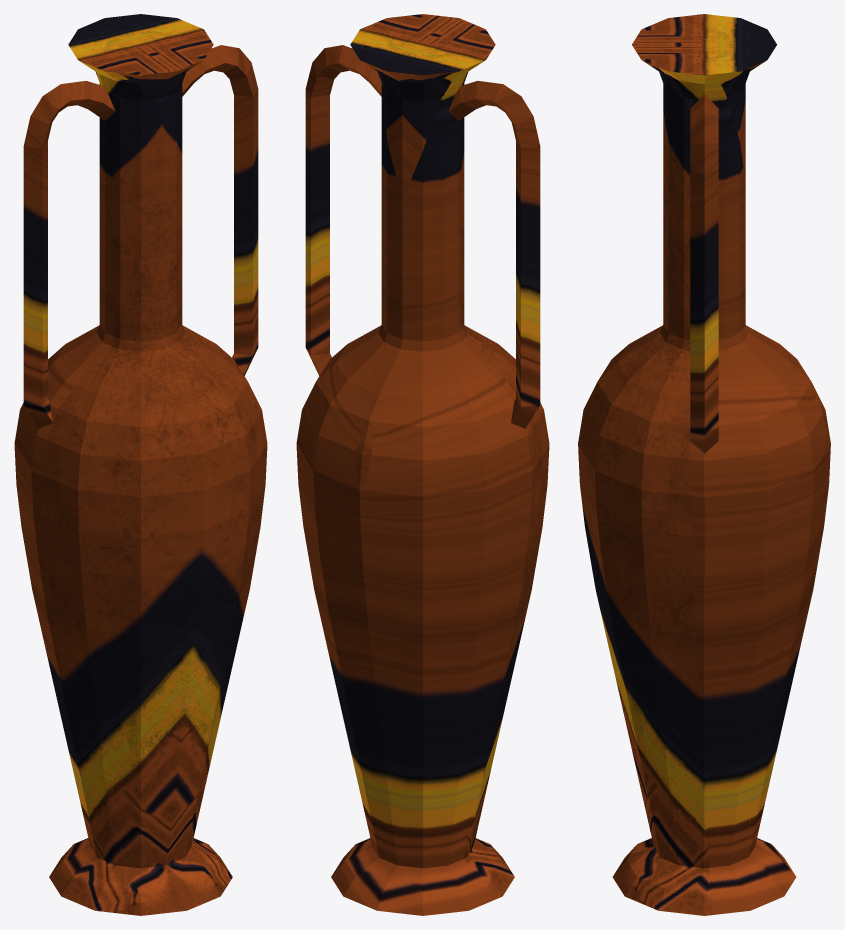
The model's file is JAR1.fbx.
The picture shows the model from 3 angles, left to right: view 1: azimuth 30°, elevation 25°; view 2: azimuth 150°, elevation 25°; view 3: azimuth 270°, elevation 25°; orthographic projection.
Parts seen in each view (by area): view 1: JAR1 Low; view 2: JAR1 Low; view 3: JAR1 Low.
Part boxes in pixels (bbox=[...]): JAR1 Low: bbox=[14, 14, 267, 915]; JAR1 Low: bbox=[296, 14, 549, 915]; JAR1 Low: bbox=[578, 14, 830, 915].
Size of the model in its own units: 66.44 by 225 by 62.04.
